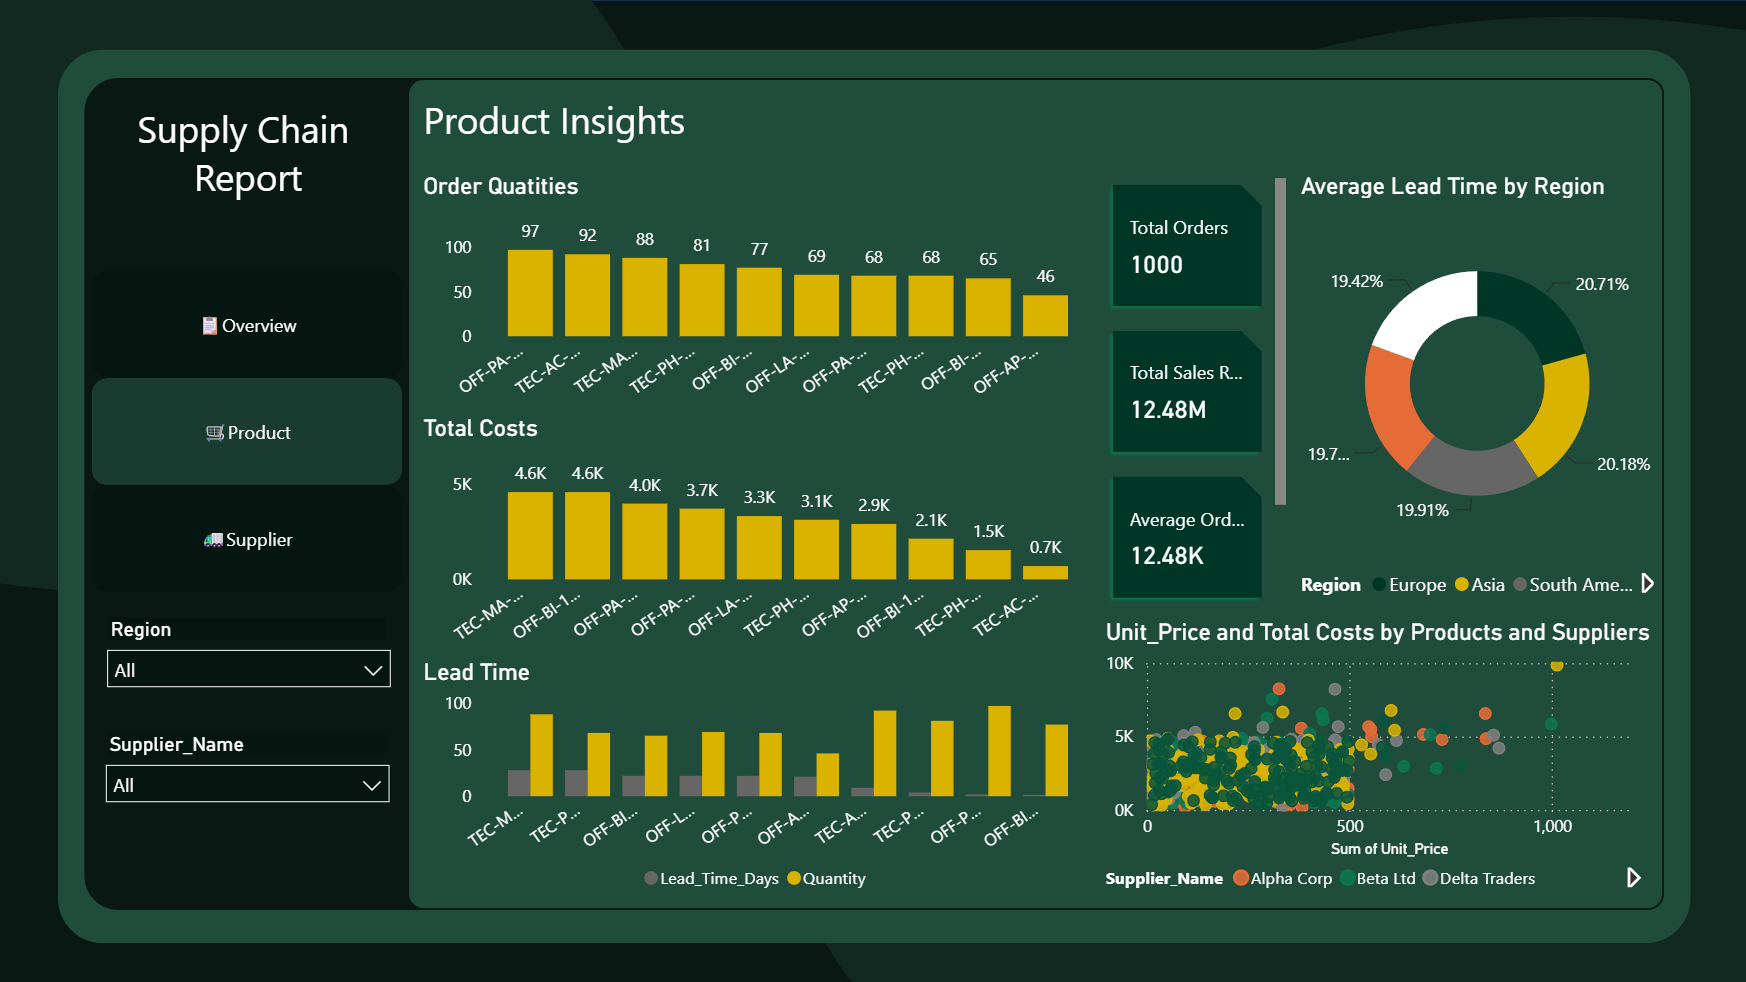

This screenshot's page, from the dashboard's own definition file:
{"tool":"powerbi","page":{"name":"🛒Product","canvas":[1280,720],"ordinal":1},"visuals":[{"type":"columnChart","title":"Order Quatities","fields":{"Y":["Measure.Order Quatity"],"Category":["Supply Chain.Product ID"]},"box":[307.3,125.5,496.3,176],"z":0},{"type":"columnChart","title":"Total Costs","fields":{"Y":["Measure.Total Costs"],"Category":["Supply Chain.Product ID"]},"box":[307.3,301.5,496.3,177.5],"z":1000},{"type":"clusteredColumnChart","title":"Lead Time","fields":{"Y":["Sum(Supply Chain.Lead_Time_Days)","Sum(Supply Chain.Quantity)"],"Category":["Supply Chain.Product ID"]},"box":[307.3,479,496.3,178.9],"z":2000},{"type":"cardVisual","fields":{"Data":["Supply Chain.Total Orders","Supply Chain.Total Sales Revenue","Supply Chain.Average Order Value (AOV)","Measure.Order Quatity"]},"box":[803.6,125.5,141.4,324.6],"z":3000},{"type":"donutChart","fields":{"Category":["Supply Chain.Region"],"Y":["Supply Chain.Average Lead Time"]},"box":[945,125.5,266.9,318.9],"z":4000},{"type":"scatterChart","title":"Unit_Price and Total Costs by Products and Suppliers","fields":{"X":["Sum(Supply Chain.Unit_Price)"],"Y":["Measure.Total Costs"],"Series":["Supply Chain.Supplier_Name"],"Category":["Supply Chain.Product ID"]},"box":[803.6,450.1,408.3,207.8],"z":5000},{"type":"textbox","box":[307.3,64.9,271.2,60.6],"z":6000},{"type":"pageNavigator","box":[70.7,197.7,226.5,235.2],"z":7000},{"type":"slicer","fields":{"Values":["Supply Chain.Region"]},"box":[72.1,444.4,226.5,83.7],"z":8000},{"type":"slicer","fields":{"Values":["Supply Chain.Supplier_Name"]},"box":[70.7,528.1,226.5,82.2],"z":9000},{"type":"textbox","box":[70.7,70.7,228,127],"z":10000}]}

Visuals, with their boxes in screenshot pixels (x1, y1, x2, y2), scaled from the page's 1280x720 canvas onto the 1746x982 screenshot:
"Order Quatities" columnChart: left=419, top=171, right=1096, bottom=411
"Total Costs" columnChart: left=419, top=411, right=1096, bottom=653
"Lead Time" clusteredColumnChart: left=419, top=653, right=1096, bottom=897
cardVisual - Supply Chain.Total Orders x Supply Chain.Total Sales Revenue: left=1096, top=171, right=1289, bottom=614
donutChart - Supply Chain.Region x Supply Chain.Average Lead Time: left=1289, top=171, right=1653, bottom=606
"Unit_Price and Total Costs by Products and Suppliers" scatterChart: left=1096, top=614, right=1653, bottom=897
textbox: left=419, top=89, right=789, bottom=171
pageNavigator: left=96, top=270, right=405, bottom=590
slicer - Supply Chain.Region: left=98, top=606, right=407, bottom=720
slicer - Supply Chain.Supplier_Name: left=96, top=720, right=405, bottom=832
textbox: left=96, top=96, right=407, bottom=270
